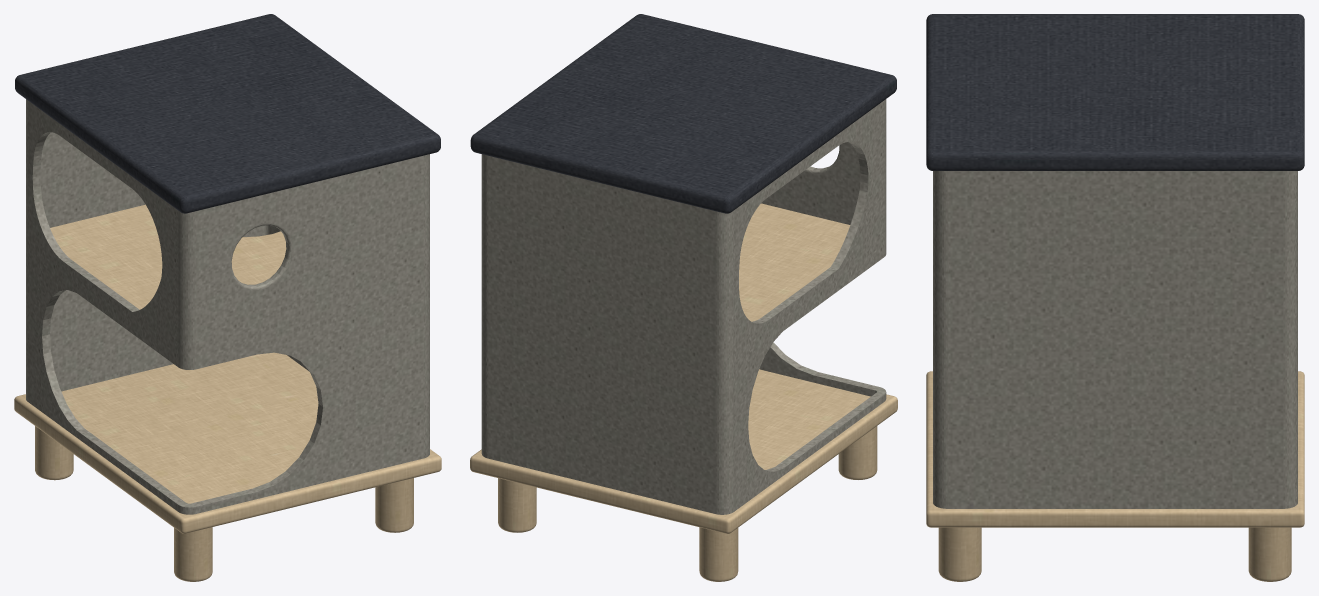
File: small_cabinet_right_gray.glb
3 views of the same model, side by side, from view 1: azimuth 30°, elevation 25°; view 2: azimuth 150°, elevation 25°; view 3: azimuth 270°, elevation 25° (orthographic). The views are drawn at different scales.
Visible parts, largest first — view 1: small_cabinet_right_gray; view 2: small_cabinet_right_gray; view 3: small_cabinet_right_gray.
Part boxes in pixels (left/top/right/bottom): small_cabinet_right_gray: left=14, top=14, right=441, bottom=581; small_cabinet_right_gray: left=470, top=14, right=897, bottom=581; small_cabinet_right_gray: left=926, top=14, right=1304, bottom=581.
Size of the model in its own units: 12.37 by 17.85 by 13.96.
4 materials, 3 textured.
